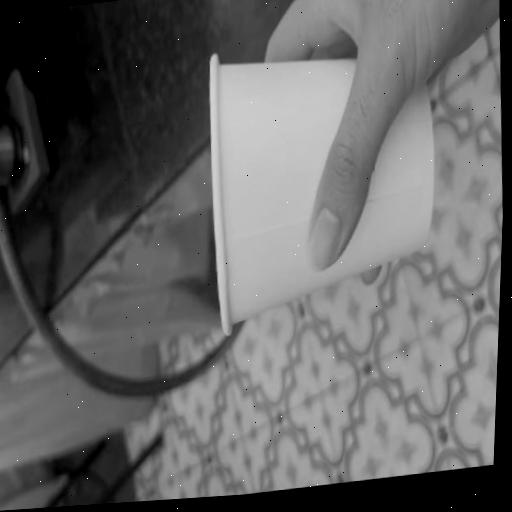ly_giay: (210, 53, 433, 333)
